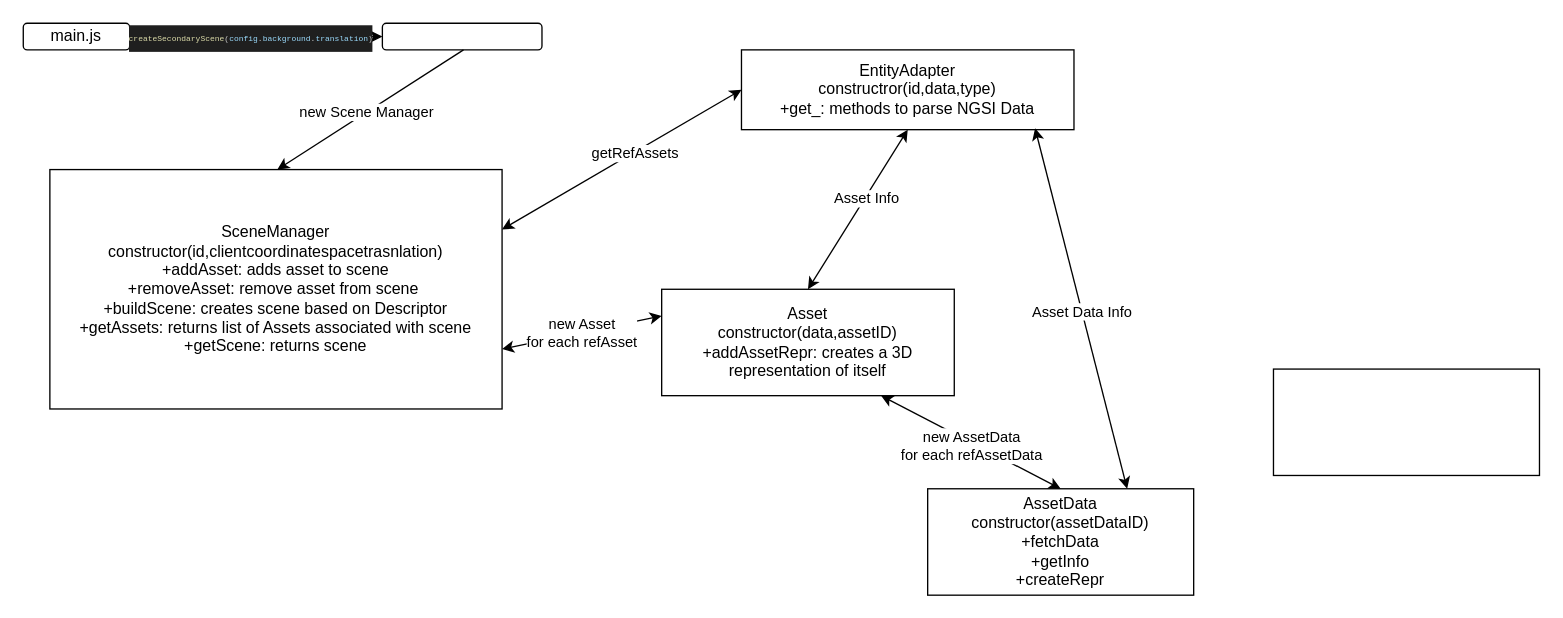
This 1563x618 diagram has some shape labels left out. Here are the shapes that lost their labels. From the top down, the box of each, then its label:
(381, 22, 542, 50): secondaryScene.js
(1272, 368, 1539, 475): DynamicTextSign
